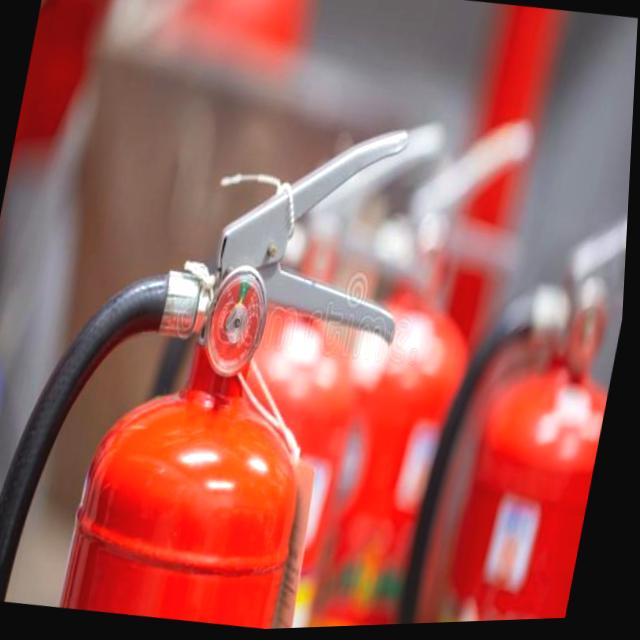FireExtinguisher: (0, 75, 441, 640)
